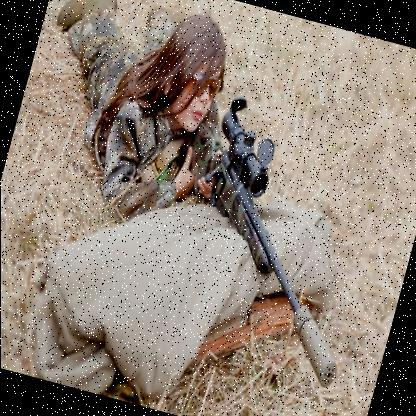rifle: (128, 82, 399, 390)
